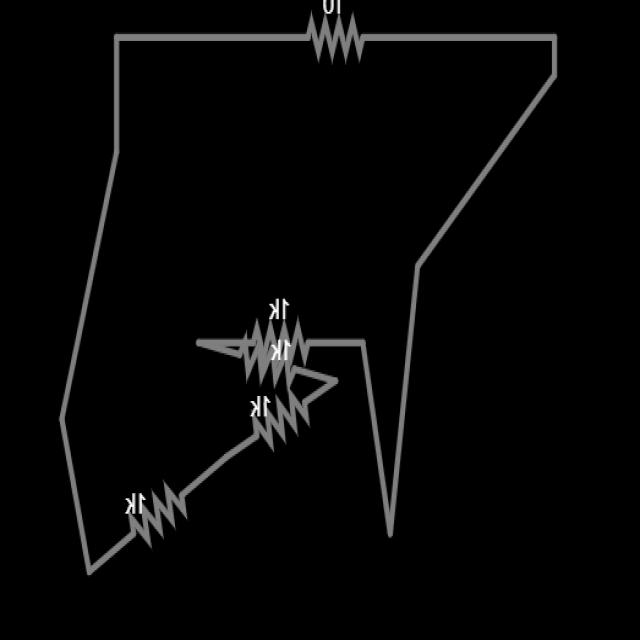Resistor: (233, 325, 295, 398), (249, 310, 312, 377), (253, 386, 310, 456), (129, 481, 188, 547), (306, 14, 364, 63)
Wire: (413, 74, 556, 270), (56, 155, 119, 426), (388, 264, 420, 542), (359, 337, 394, 541), (178, 430, 259, 502), (58, 415, 92, 583), (113, 32, 312, 44), (361, 32, 558, 44), (86, 529, 135, 577), (302, 376, 340, 406), (112, 31, 121, 155), (196, 340, 239, 362), (292, 365, 333, 385), (304, 336, 364, 348), (192, 337, 242, 348), (550, 31, 558, 76)
